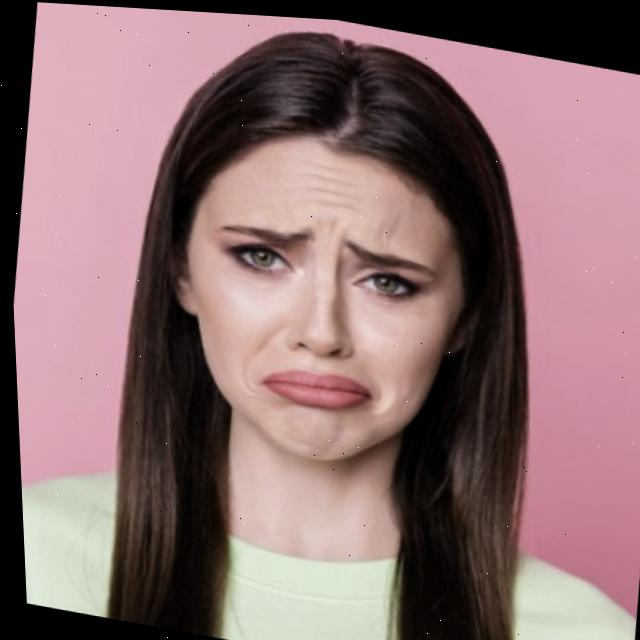sad: (184, 147, 461, 439)
